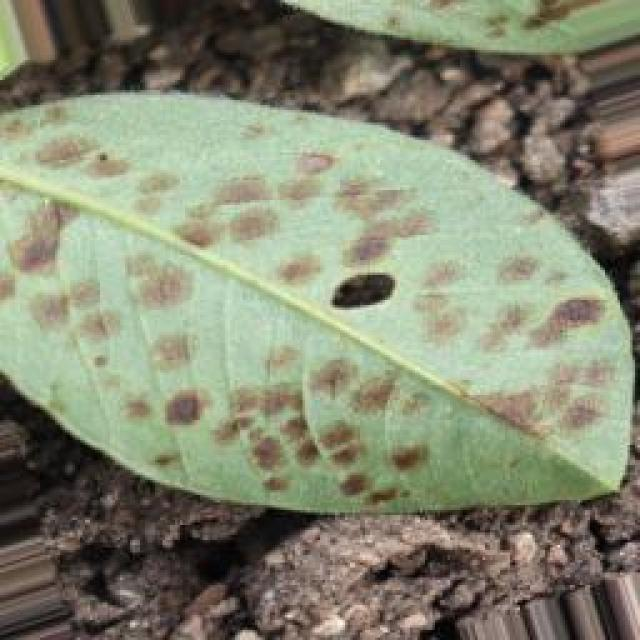Whitefly: (1, 0, 616, 548)
